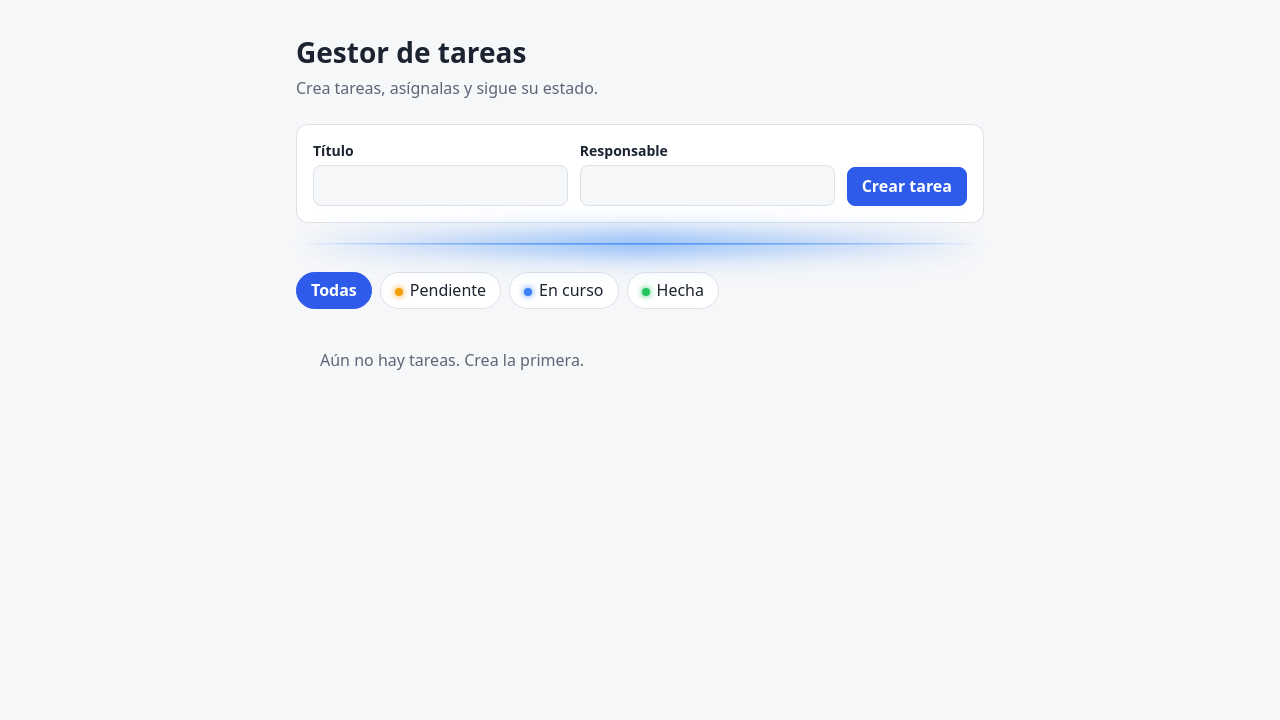
Scenario: App (integración) › notifica cada momento de la vida de una tarea: creada → en curso → hecha → reabierta
This screenshot has width=1280, height=720.
Step 1. Type "Preparar demo" into the field labelled "Título" → (440, 186), box left=313, top=165, right=568, bottom=206
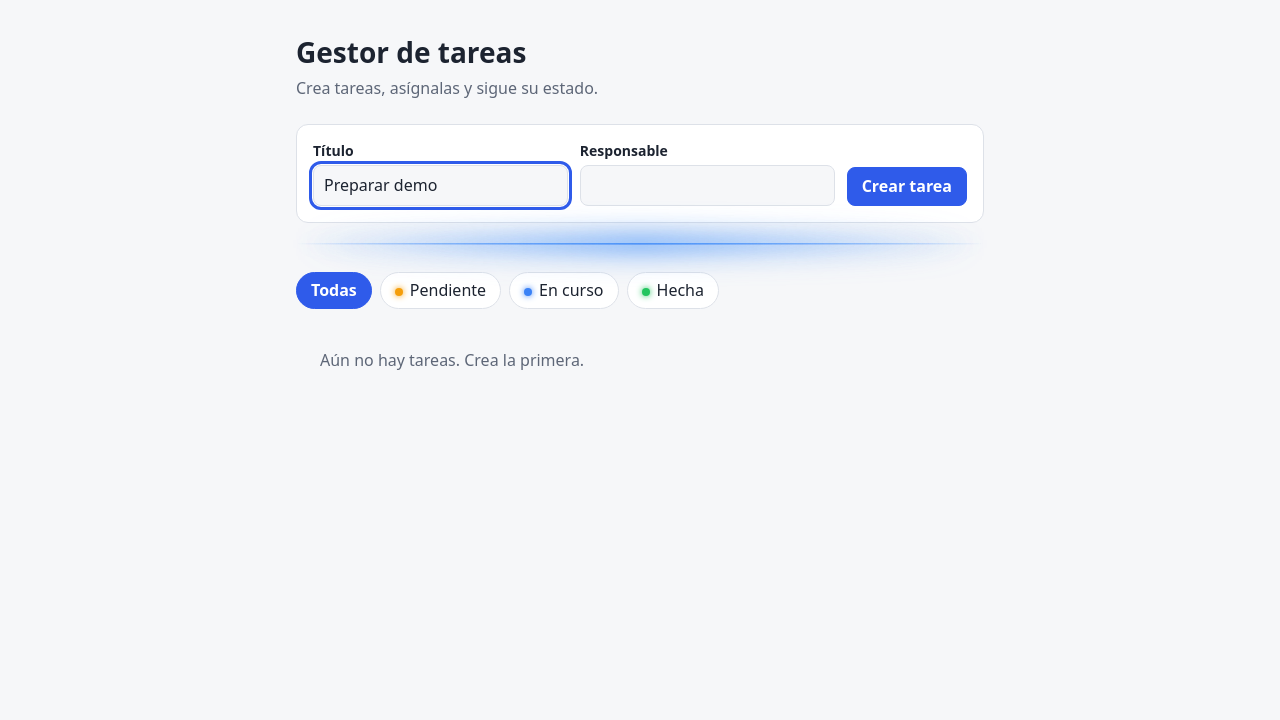
Step 2. Type "Ana" into the field labelled "Responsable" → (707, 186), box left=580, top=165, right=835, bottom=206
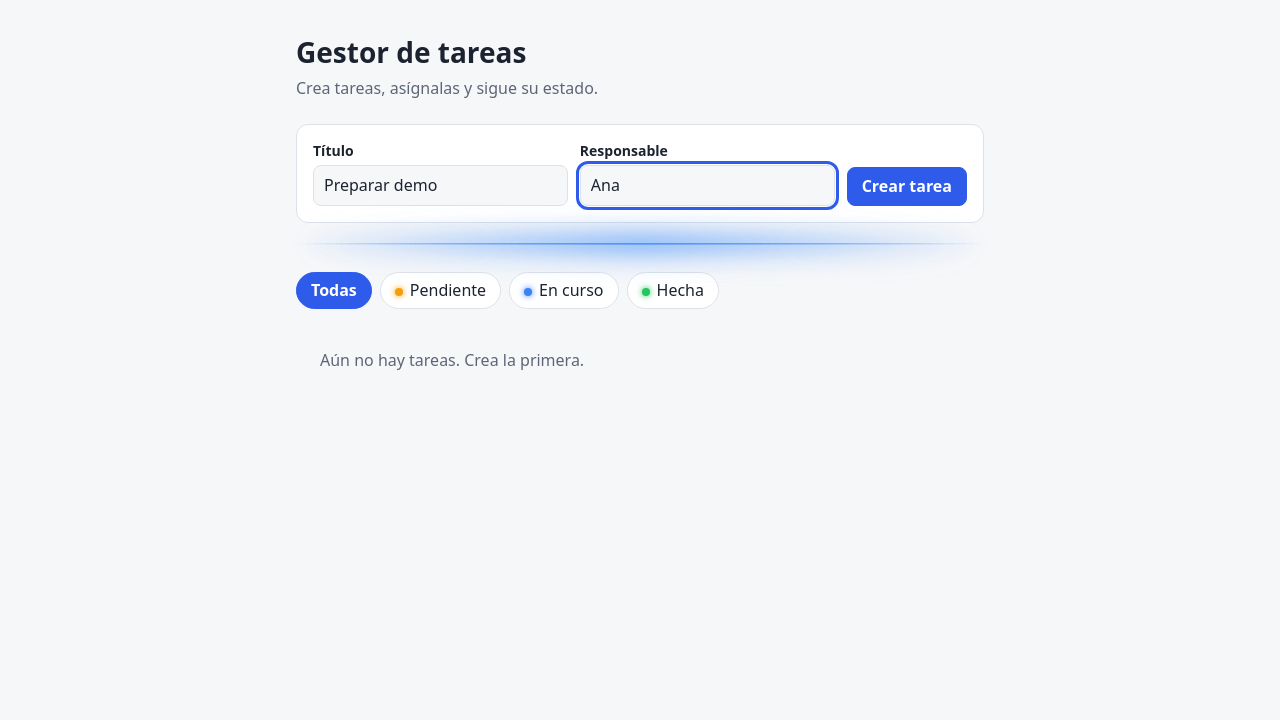
Step 3. Click the button "Crear tarea" → (907, 187), box left=847, top=167, right=967, bottom=206
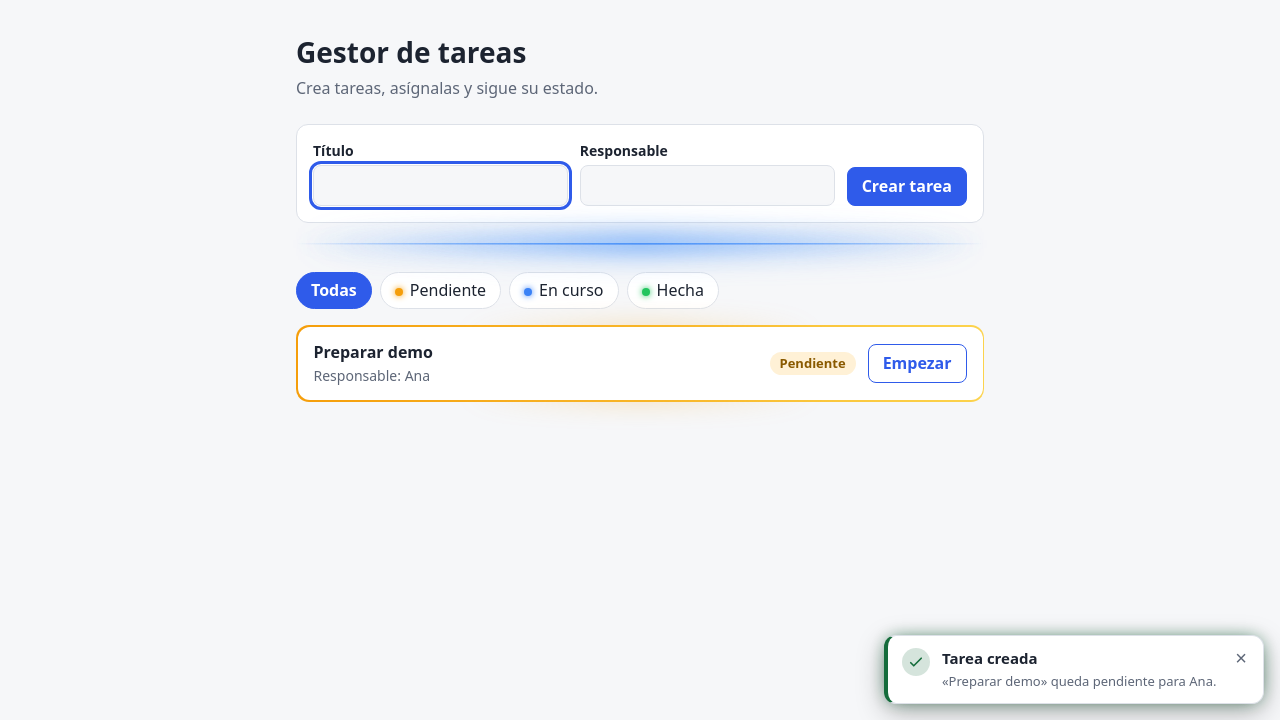
Result: the text "Tarea creada" is shown at left=942, top=648, right=1038, bottom=668
Result: the text "«Preparar demo» queda pendiente para Ana." is shown at left=942, top=672, right=1221, bottom=691
Step 4. Click the button with aria-label "Empezar: Preparar demo" → (917, 364), box left=868, top=344, right=966, bottom=383
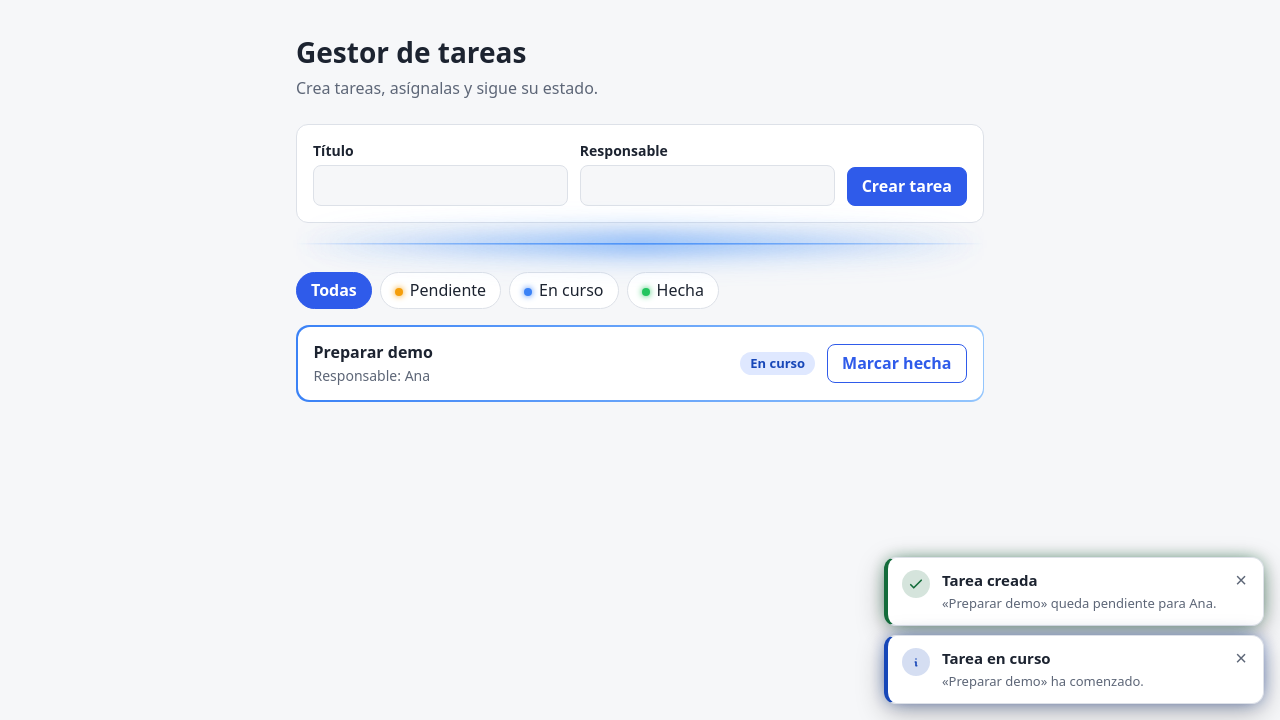
Result: the text "Tarea en curso" is shown at left=942, top=648, right=1051, bottom=668
Step 5. Click the button with aria-label "Marcar hecha: Preparar demo" → (897, 364), box left=827, top=344, right=966, bottom=383
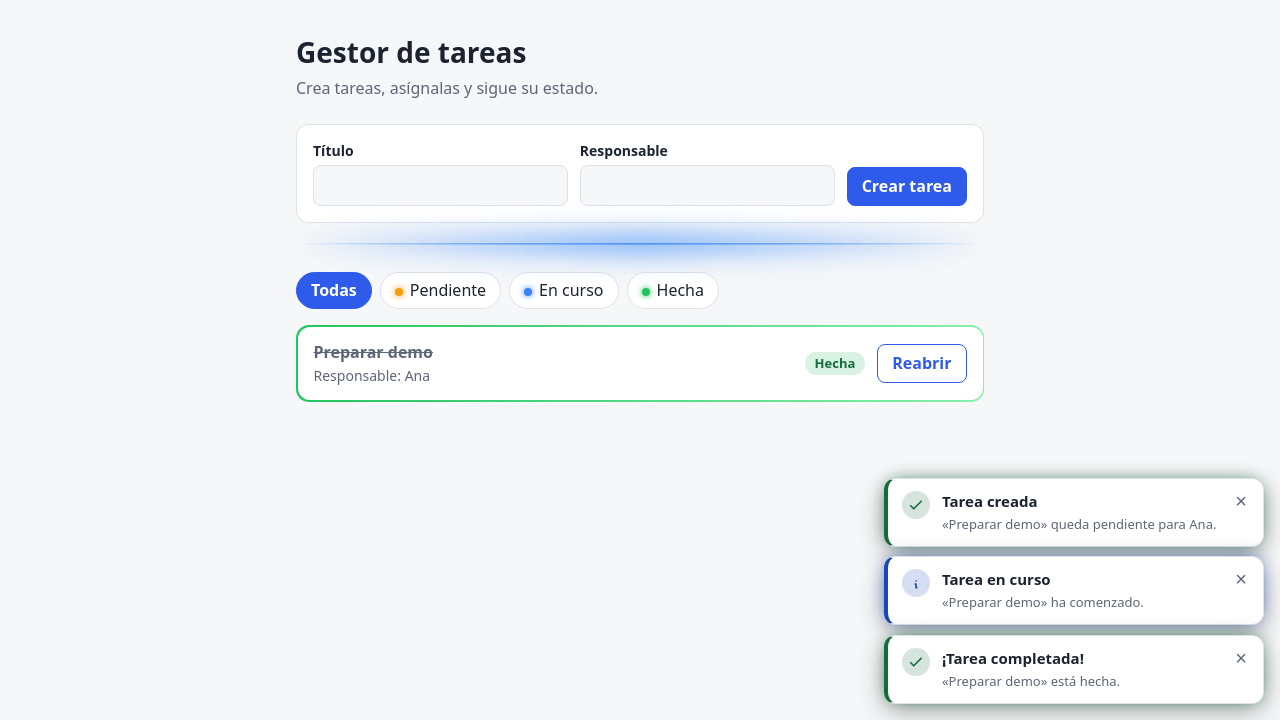
Result: the text "¡Tarea completada!" is shown at left=942, top=648, right=1084, bottom=668
Step 6. Click the button with aria-label "Reabrir: Preparar demo" → (922, 364), box left=877, top=344, right=966, bottom=383
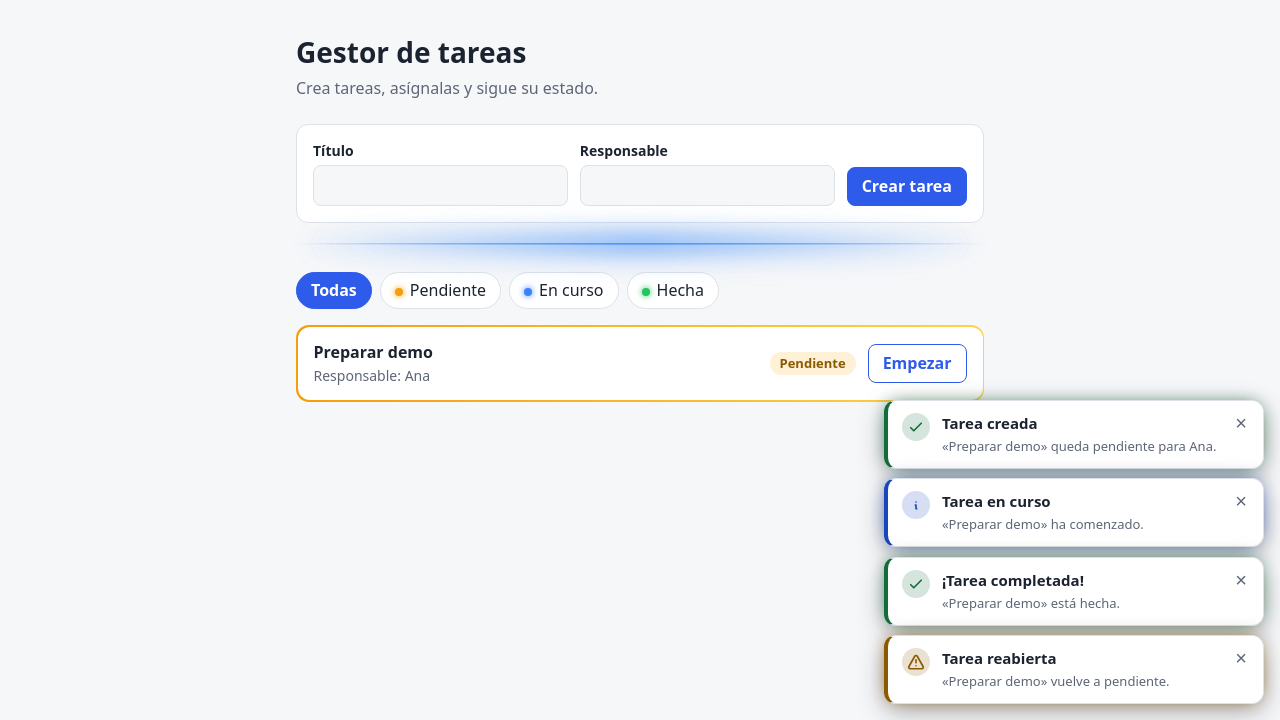
Result: the text "Tarea reabierta" is shown at left=942, top=648, right=1057, bottom=668
